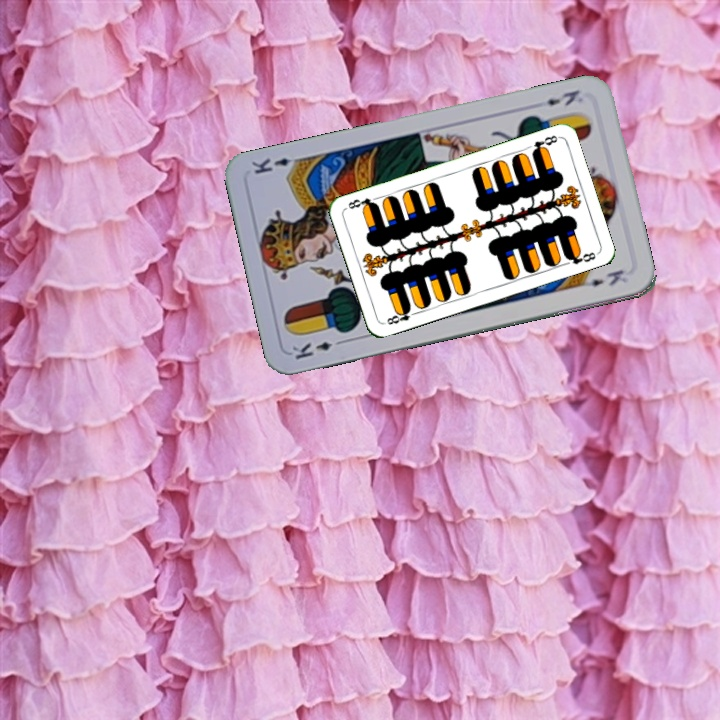E8: (528, 131, 561, 157), (383, 304, 420, 327)
EK: (288, 335, 347, 362), (542, 85, 583, 109)
